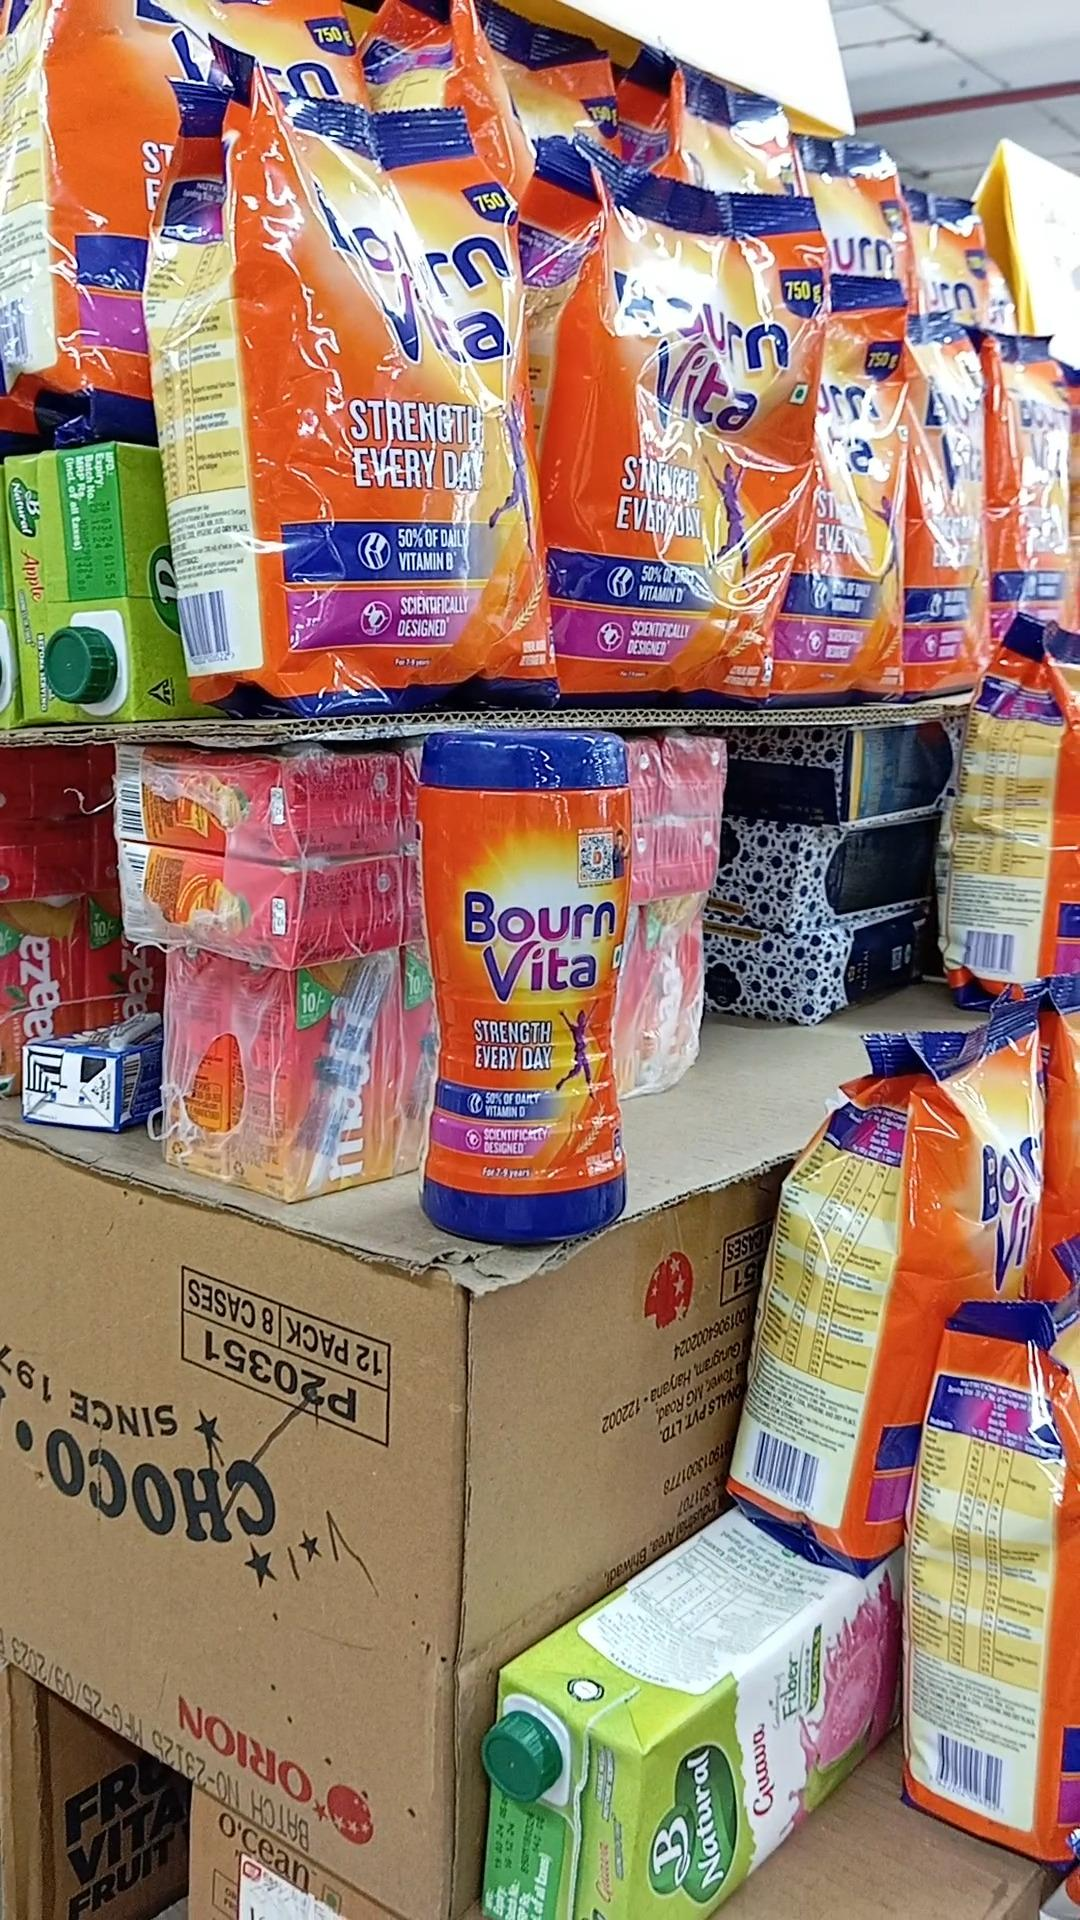BOURN_VITA_200_G_JAR: (421, 723, 634, 1244)
